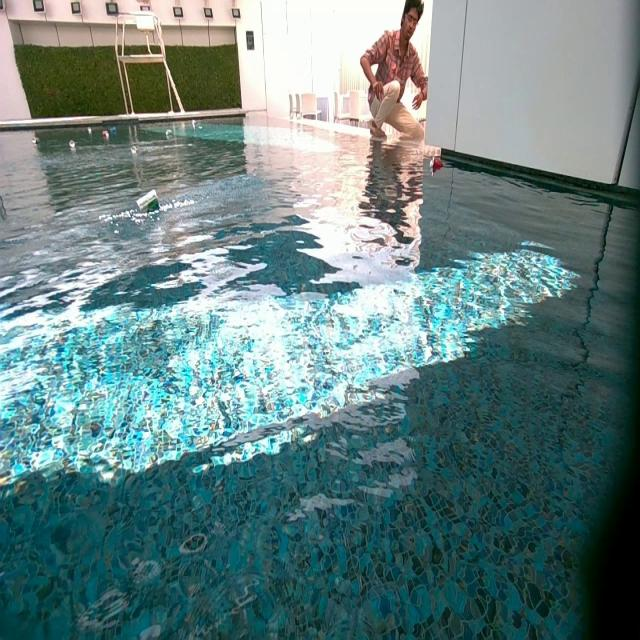Cans: (136, 188, 160, 215), (429, 156, 444, 170), (132, 146, 140, 156), (102, 131, 110, 140), (109, 128, 117, 136), (166, 130, 174, 138), (190, 119, 197, 128), (88, 128, 95, 136), (34, 136, 40, 145), (70, 140, 76, 148)
